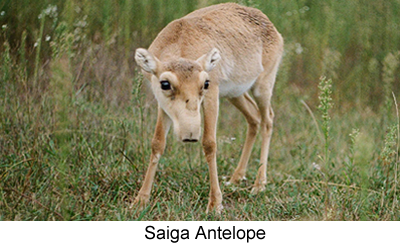saiga: (130, 2, 285, 208)
